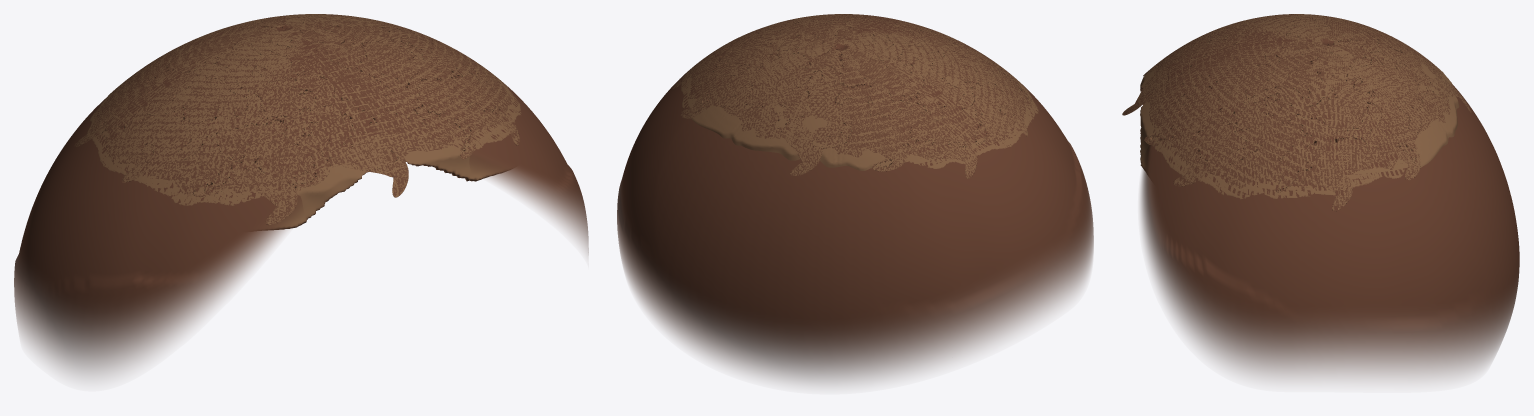
File: Highlights-df79dd21012d252-hair.glb
3 renders of one model, left to right at view 1: azimuth 30°, elevation 25°; view 2: azimuth 150°, elevation 25°; view 3: azimuth 270°, elevation 25°, orthographic. The views are drawn at different scales.
Parts seen in each view (by area): view 1: 226 hair / Hair252 / curly close fade coverage.001, 226 hair / Hair252 / sculpted curl groups.001; view 2: 226 hair / Hair252 / curly close fade coverage.001, 226 hair / Hair252 / sculpted curl groups.001; view 3: 226 hair / Hair252 / curly close fade coverage.001, 226 hair / Hair252 / sculpted curl groups.001.
Boxes of the visible parts, x1=… form: 226 hair / Hair252 / curly close fade coverage.001: x1=14, y1=14, x2=588, y2=376; 226 hair / Hair252 / sculpted curl groups.001: x1=74, y1=14, x2=521, y2=230; 226 hair / Hair252 / curly close fade coverage.001: x1=617, y1=14, x2=1093, y2=384; 226 hair / Hair252 / sculpted curl groups.001: x1=672, y1=14, x2=1038, y2=178; 226 hair / Hair252 / curly close fade coverage.001: x1=1140, y1=14, x2=1519, y2=379; 226 hair / Hair252 / sculpted curl groups.001: x1=1122, y1=14, x2=1471, y2=211.
Bounding box in the file's own units: 0.976 × 0.6423 × 0.7406.
Materials: 2 (2 with a texture image).
